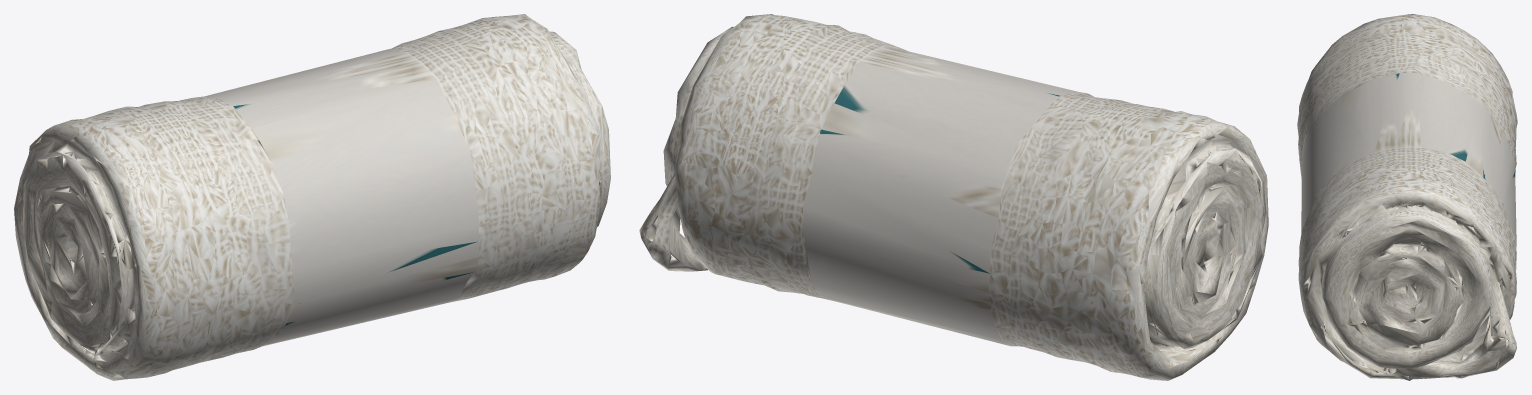
Rendered from bandage.glb.
3 views of the same model, side by side, from view 1: azimuth 30°, elevation 25°; view 2: azimuth 150°, elevation 25°; view 3: azimuth 270°, elevation 25° (orthographic). The views are drawn at different scales.
Visible parts, largest first — view 1: Mesh_0; view 2: Mesh_0; view 3: Mesh_0.
Part boxes in pixels (x1,y1,x2,y2): Mesh_0: (14,14,610,380); Mesh_0: (639,14,1268,380); Mesh_0: (1297,14,1517,380).
Bounding box in the file's own units: 0.08 × 0.0355 × 0.037.
Materials: 1 (1 with a texture image).
